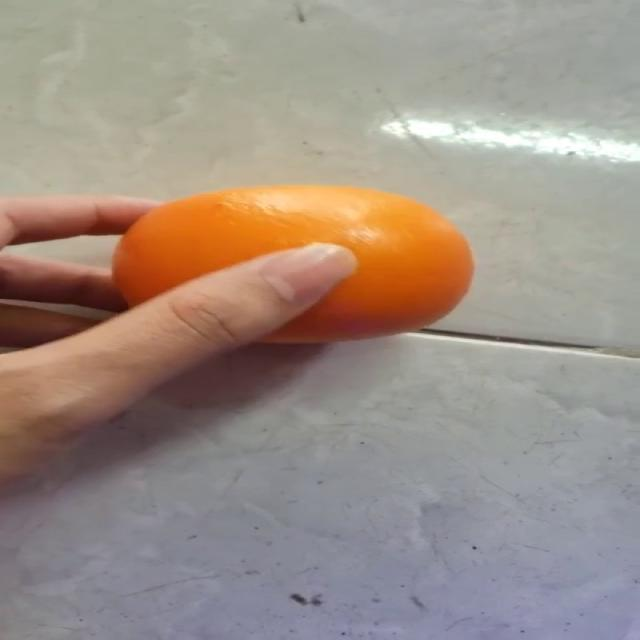Orange: (110, 182, 475, 345)
